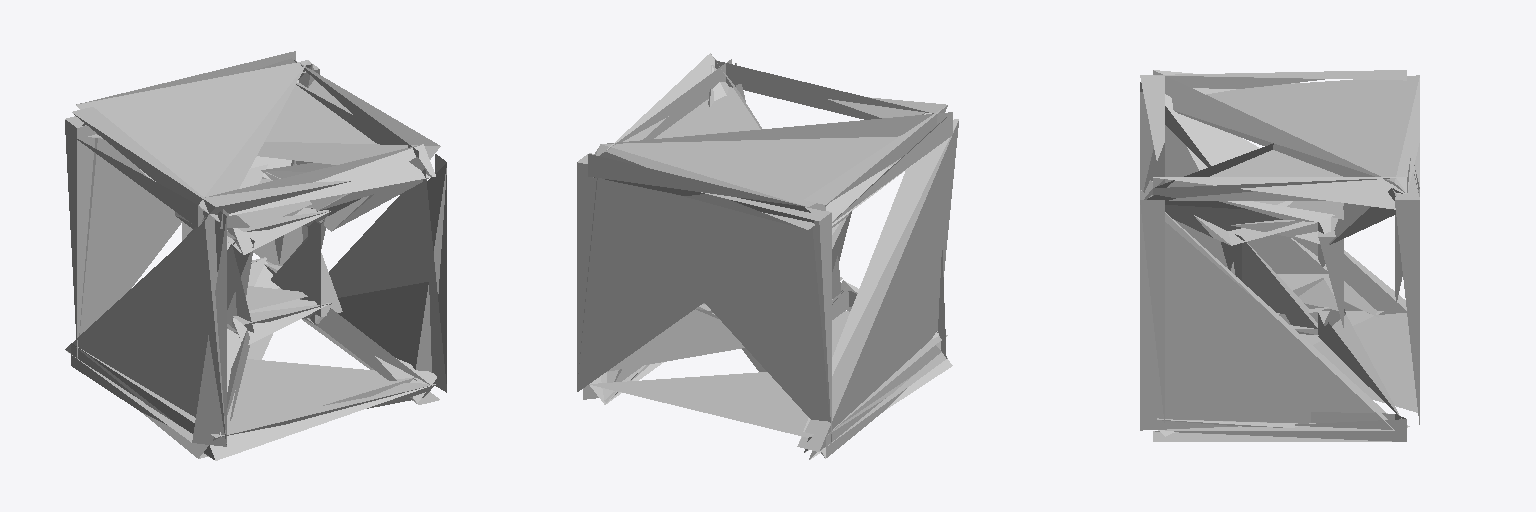
Rendered from tesseract.obj.
3 views of the same model, side by side, from view 1: azimuth 30°, elevation 25°; view 2: azimuth 150°, elevation 25°; view 3: azimuth 270°, elevation 25° (orthographic).
Parts seen in each view (by area): view 1: 1, 3, 8, 5, 9, 7, 21, 17, 15, 19, 12, 13 (+2 smaller); view 2: 1, 3, 8, 5, 9, 7, 20, 21, 23, 24, 12, 4; view 3: 1, 8, 7, 9, 5, 3, 21, 4, 20, 24, 12, 11 (+6 smaller).
Boxes of the visible parts, box(x1,y1,x2,y2) form: 1: box(65, 60, 446, 392); 3: box(65, 211, 226, 446); 8: box(76, 51, 308, 227); 5: box(71, 333, 435, 460); 9: box(72, 107, 435, 316); 7: box(88, 58, 440, 164); 21: box(76, 157, 431, 440); 17: box(175, 164, 330, 254); 15: box(232, 286, 331, 344); 19: box(316, 308, 436, 402); 12: box(227, 238, 254, 332); 13: box(227, 257, 319, 331); 1: box(577, 60, 831, 441); 3: box(797, 119, 958, 451); 8: box(588, 112, 952, 225); 5: box(589, 311, 952, 459); 9: box(715, 60, 947, 204); 7: box(600, 53, 814, 229); 20: box(607, 309, 744, 371); 21: box(708, 63, 940, 436); 23: box(593, 148, 825, 222); 24: box(825, 113, 931, 225); 12: box(832, 211, 851, 299); 4: box(583, 362, 663, 404); 1: box(1140, 143, 1419, 430); 8: box(1153, 70, 1419, 193); 7: box(1153, 143, 1410, 209); 9: box(1140, 70, 1406, 328); 5: box(1158, 311, 1417, 436); 3: box(1140, 82, 1406, 314); 21: box(1141, 180, 1334, 245); 4: box(1153, 412, 1406, 441); 20: box(1318, 281, 1401, 418); 24: box(1165, 94, 1259, 170); 12: box(1247, 238, 1327, 273); 11: box(1318, 217, 1343, 327).
Bounding box in the file's own units: 1.1 × 1.1 × 1.1.